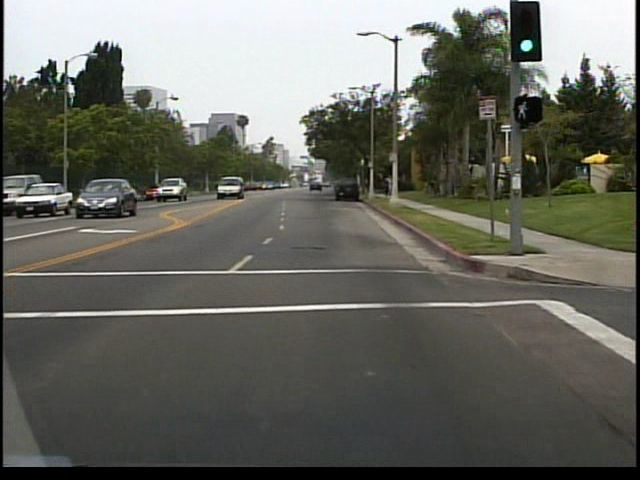person: (386, 174, 400, 199), (388, 177, 389, 198)
